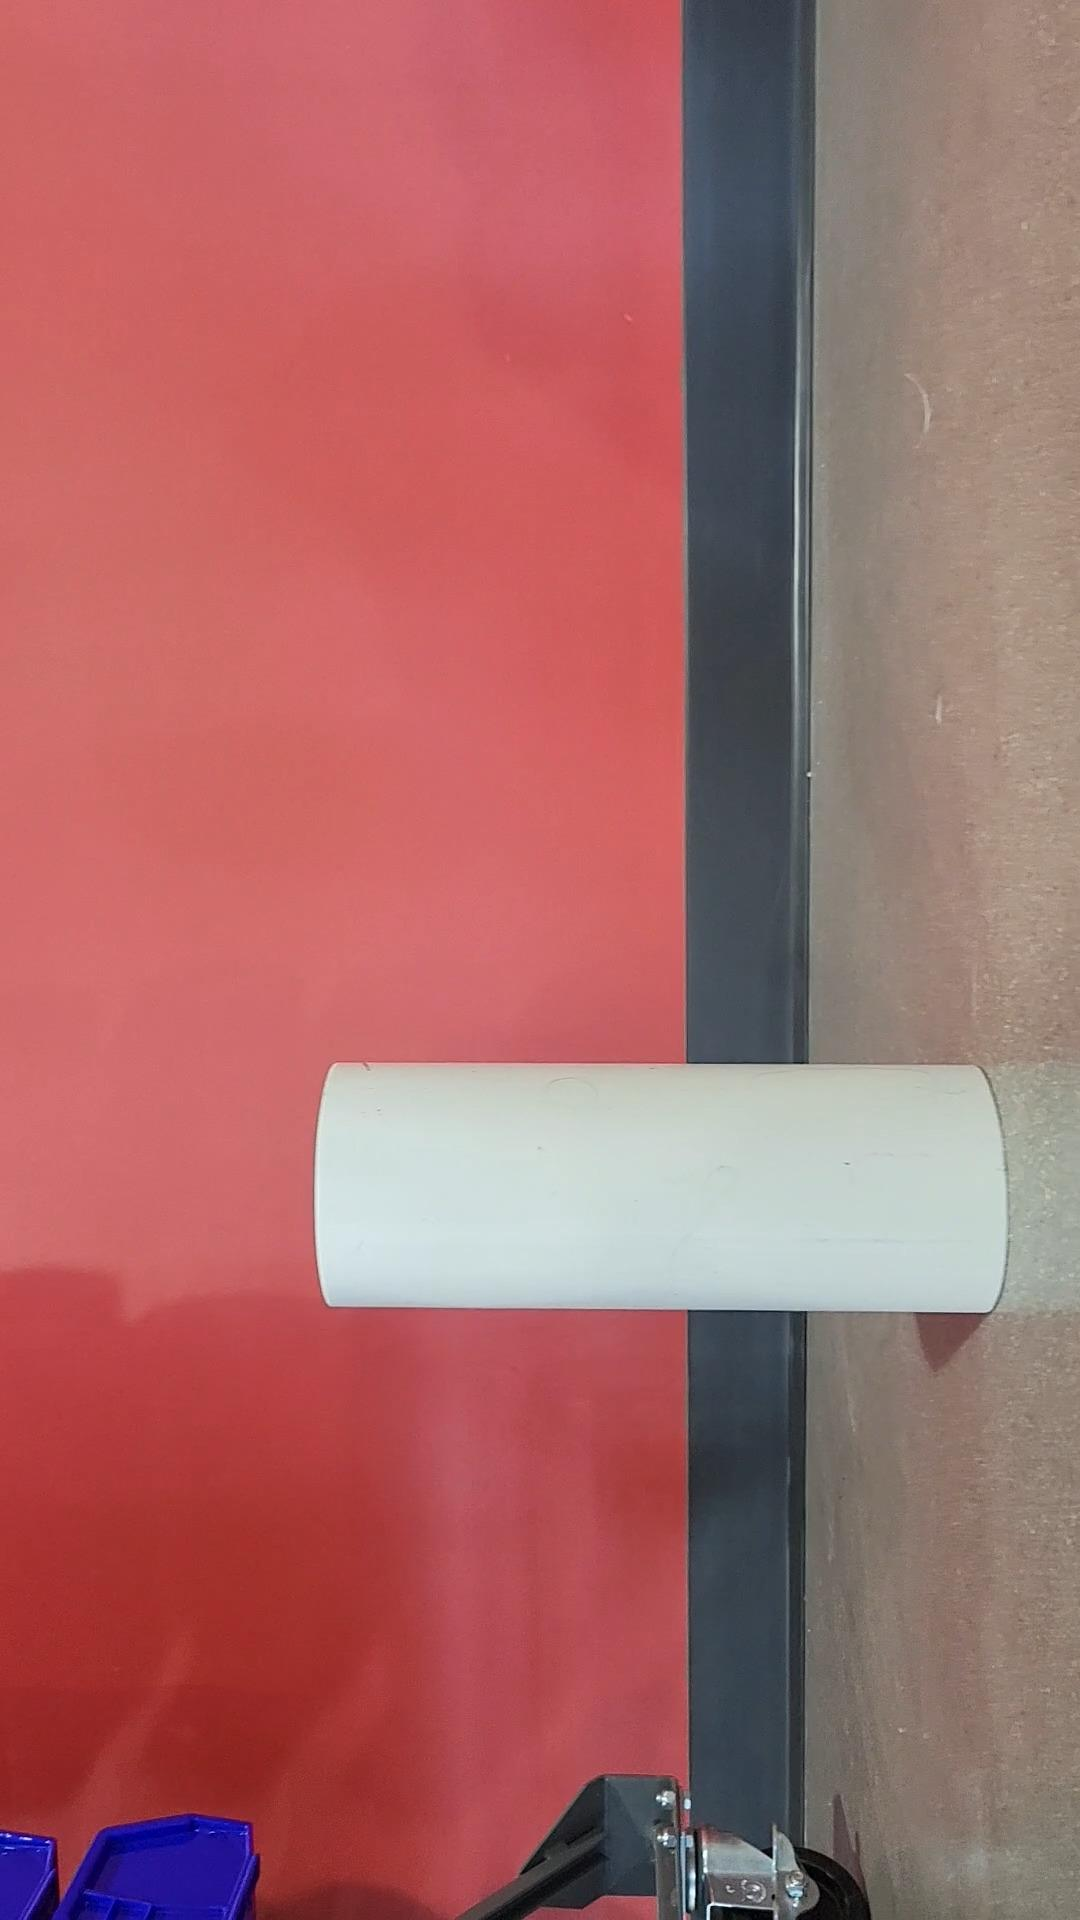coral: (305, 1050, 1025, 1323)
